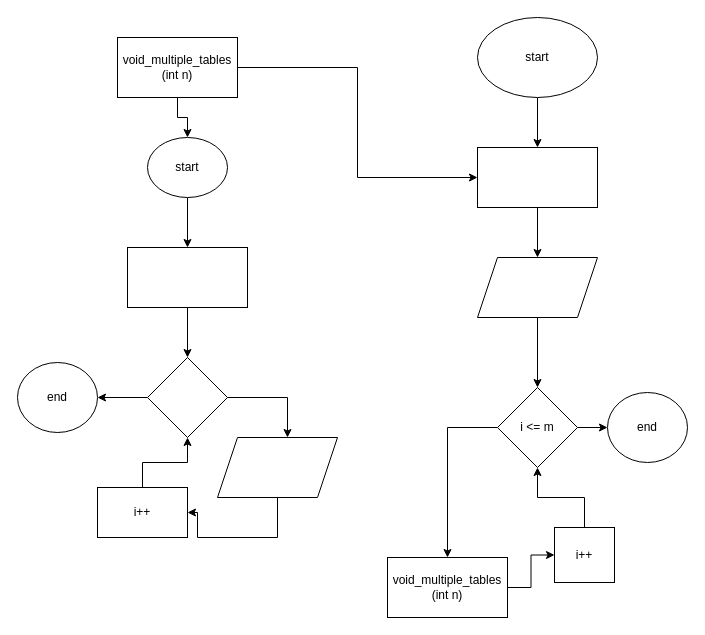
The diagram is 705 pixels wide and 635 high, and some of its shapes have lost their labels. The centre of each missing label's shape, as x and y in pixels:
int i, n, m: the point at 537,177
int n,m;: the point at 187,277
n <= m: the point at 187,397
printf n * m: the point at 277,467
scanf("%d" &m: the point at 537,287
